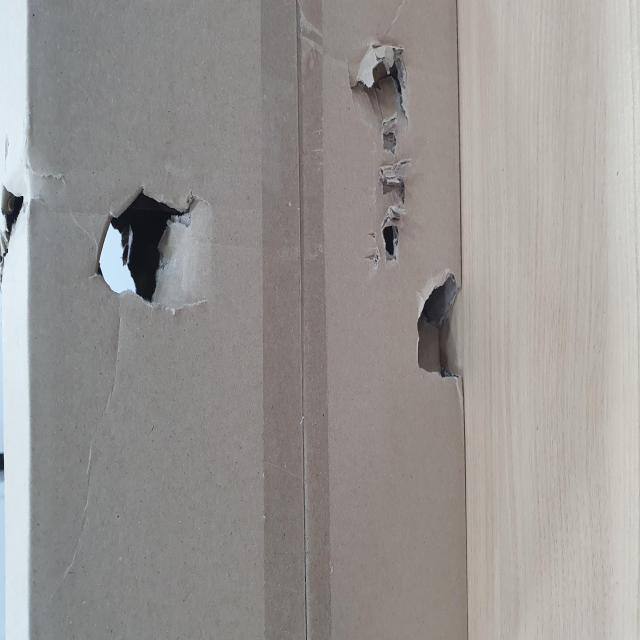damaged: (181, 160, 259, 347), (288, 605, 340, 640)
